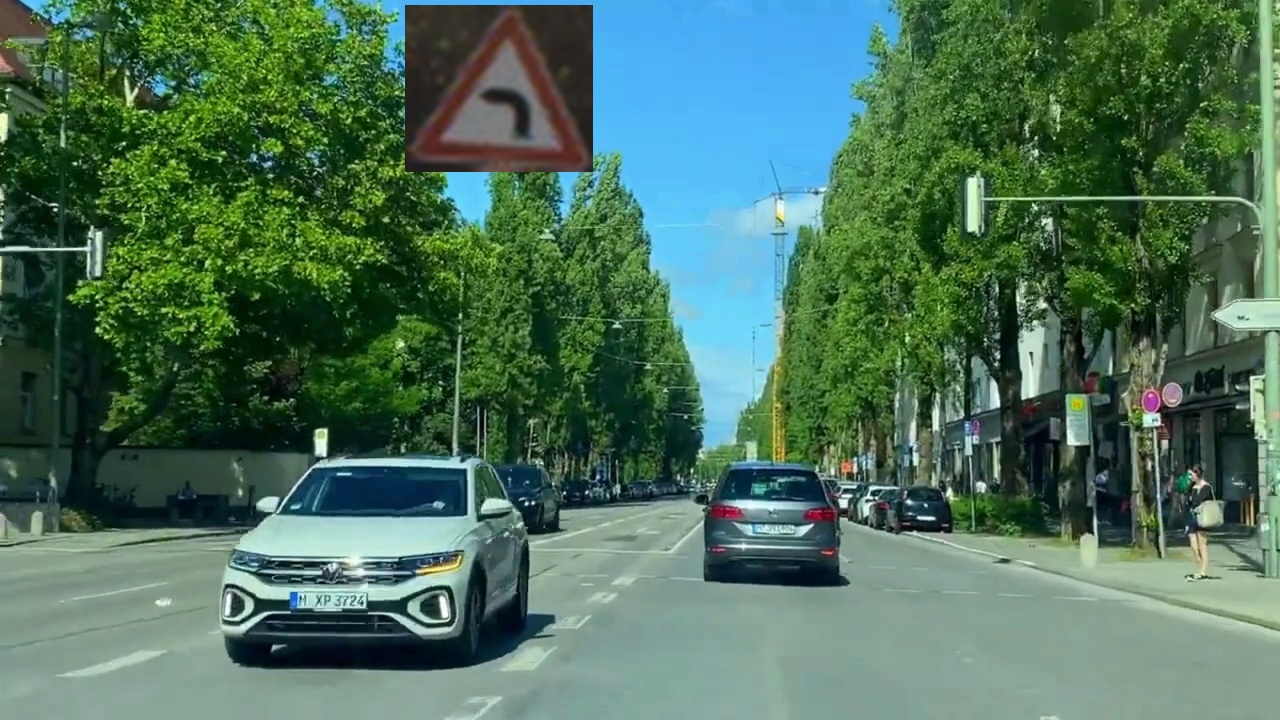Curve left: (405, 5, 593, 172)
